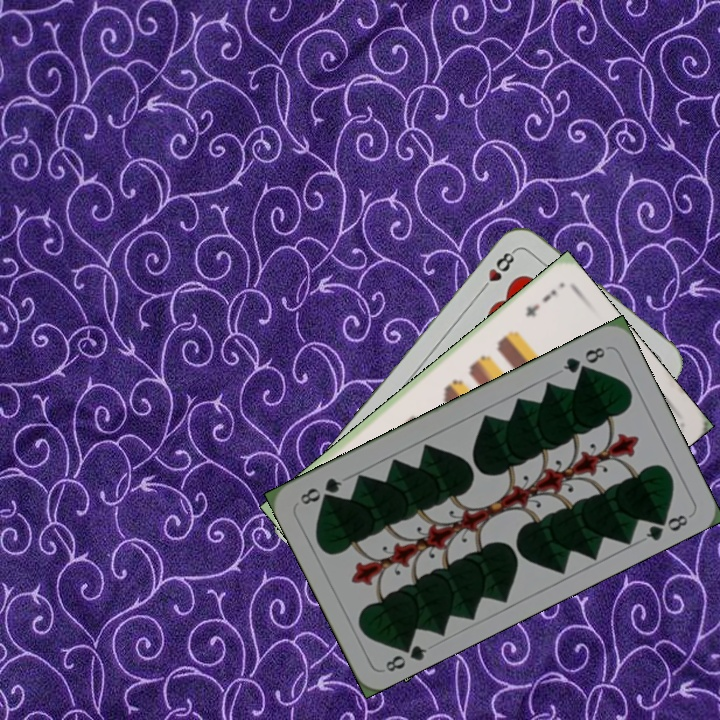E7: (521, 285, 560, 320)
G8: (381, 635, 429, 675), (559, 342, 608, 376)
H8: (476, 246, 519, 295)
